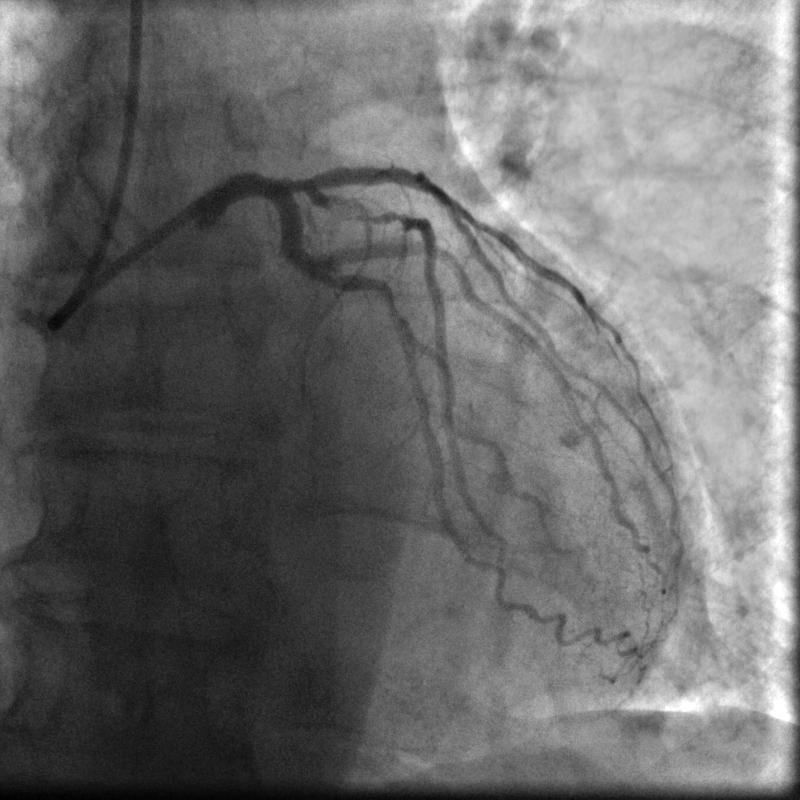Stenosis: (328, 188, 381, 226)
